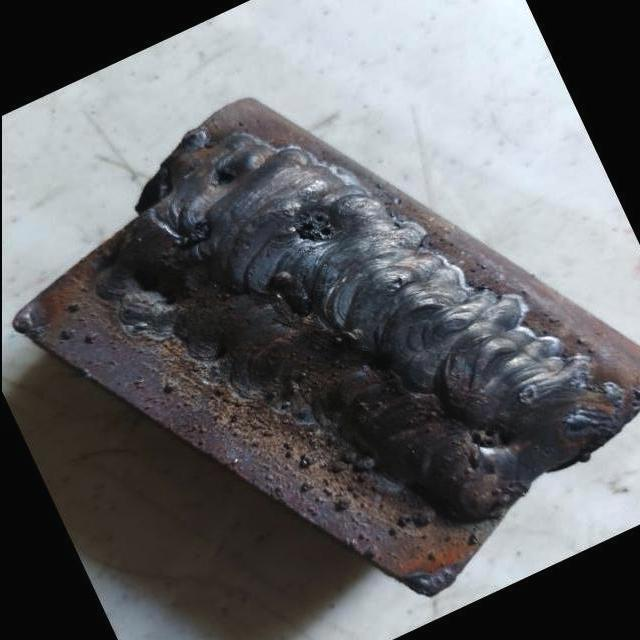defect: (288, 204, 340, 244), (166, 216, 214, 256), (460, 424, 518, 453), (203, 164, 236, 191), (366, 352, 397, 375), (518, 384, 537, 402)
